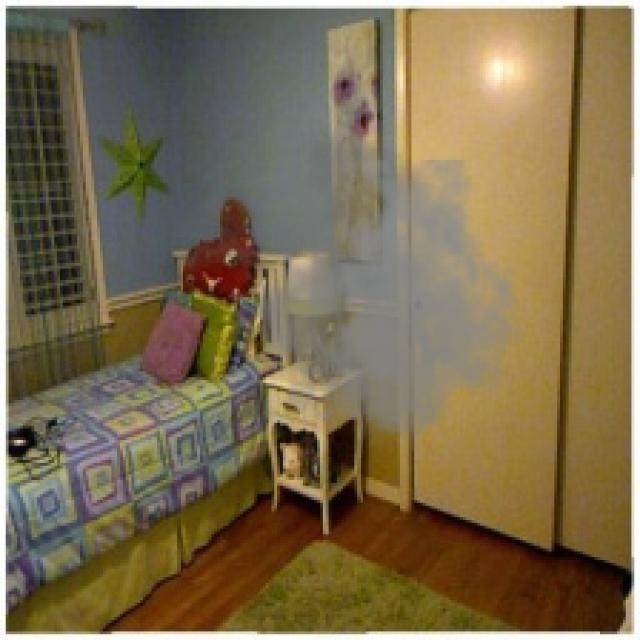Smoke: (163, 117, 526, 460)
